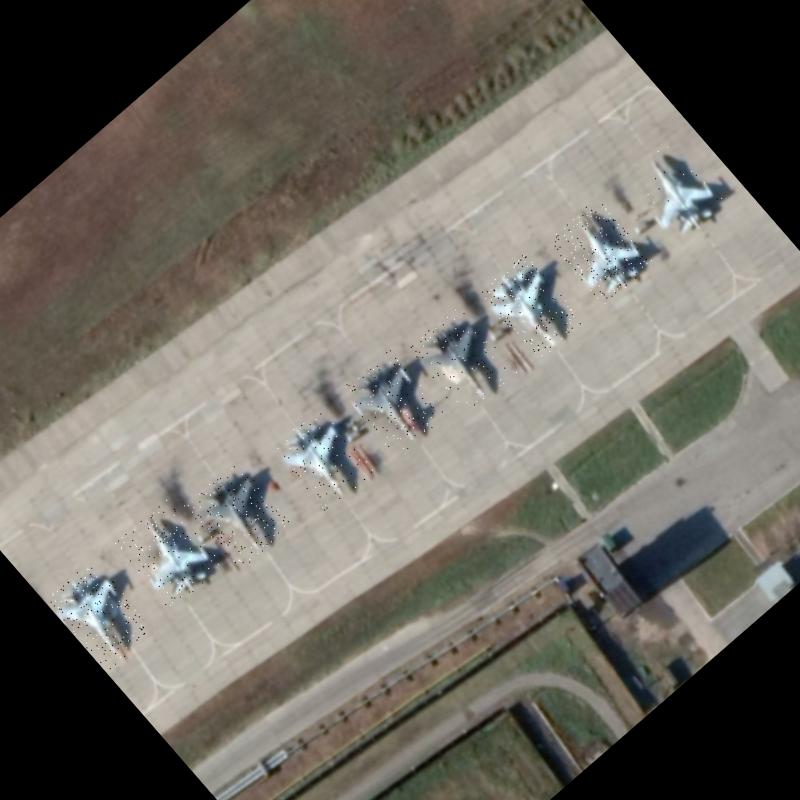A1: (406, 304, 518, 418), (45, 557, 156, 672), (113, 498, 224, 610), (339, 348, 448, 458), (185, 460, 294, 570), (547, 196, 655, 306), (622, 138, 729, 248), (271, 406, 375, 512)
A19: (478, 253, 585, 362)
